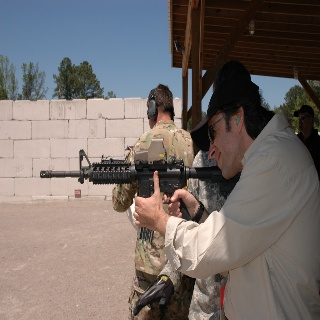rifle: (40, 146, 240, 225)
